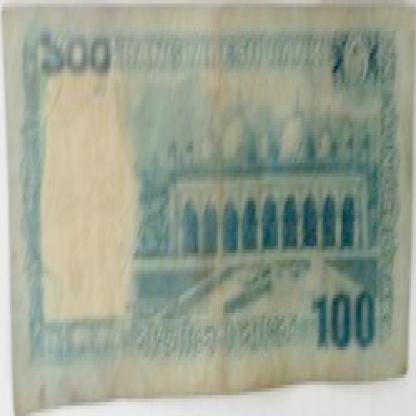one hundred taka: (35, 21, 131, 97), (310, 277, 380, 357)
